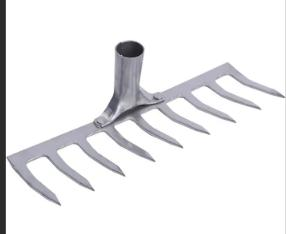RATEAU: (0, 8, 280, 234)
